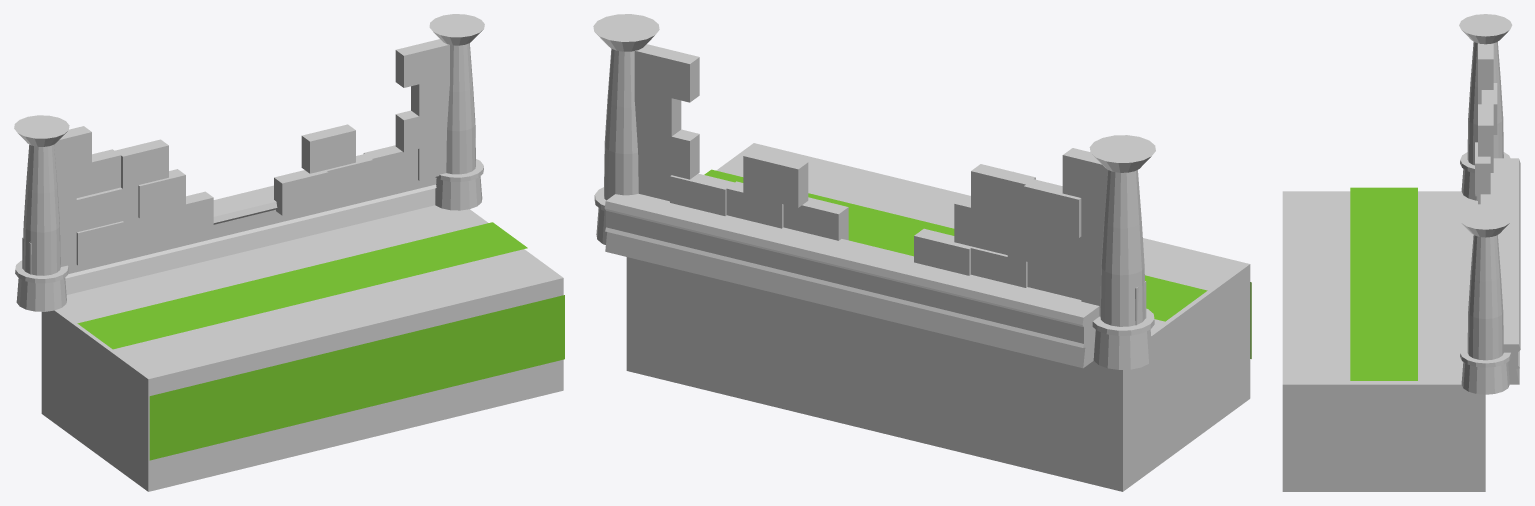
Rendered from Level_Blockout.fbx.
The picture shows the model from 3 angles, left to right: view 1: azimuth 30°, elevation 25°; view 2: azimuth 150°, elevation 25°; view 3: azimuth 270°, elevation 25°; orthographic projection. The views are drawn at different scales.
Visible parts, largest first — view 1: Cube.022, Plane.001, Plane, Cube.006, Cylinder, Cylinder.001, Cube.024, Cube.008, Cube.027, Cube.015, Cube.026, Cube.014 (+13 smaller); view 2: Cube.022, Cube.006, Cylinder, Cylinder.001, Plane, Cube.024, Cube.008, Cube.016, Cube.026, Cube.015, Cube.014, Cube.027 (+12 smaller); view 3: Cube.022, Plane, Cylinder.001, Cube.006, Cylinder, Cube.015, Cube.018, Cube.014, Cube.016.
Boxes of the visible parts, x1,y1,x2,y2 form: Cube.022: (41,205,563,491); Plane.001: (149,295,564,460); Plane: (77,222,527,349); Cube.006: (65,177,436,294); Cylinder: (14,115,69,311); Cylinder.001: (429,14,484,210); Cube.024: (301,124,355,173); Cube.008: (395,39,449,87); Cube.027: (274,170,328,215); Cube.015: (115,139,168,188); Cube.026: (395,109,448,152); Cube.014: (138,169,185,218); Cube.022: (626,143,1250,491); Cube.006: (604,193,1099,368); Cylinder: (1089,135,1155,369); Cylinder.001: (593,14,659,244); Plane: (704,169,1207,321); Cube.024: (743,149,808,207); Cube.008: (634,44,699,102); Cube.016: (1023,179,1081,237); Cube.026: (636,128,699,179); Cube.015: (971,164,1035,222); Cube.014: (954,196,1007,254); Cube.027: (783,197,848,240); Cube.022: (1282,191,1485,491); Plane: (1350,187,1417,380); Cylinder.001: (1459,207,1512,394); Cube.006: (1493,158,1520,384); Cylinder: (1459,14,1512,200); Cube.015: (1478,104,1493,156); Cube.018: (1478,43,1493,89); Cube.014: (1475,142,1490,194); Cube.016: (1481,83,1497,134).
Bounding box in the file's own units: 3015 × 1782 × 1420.
